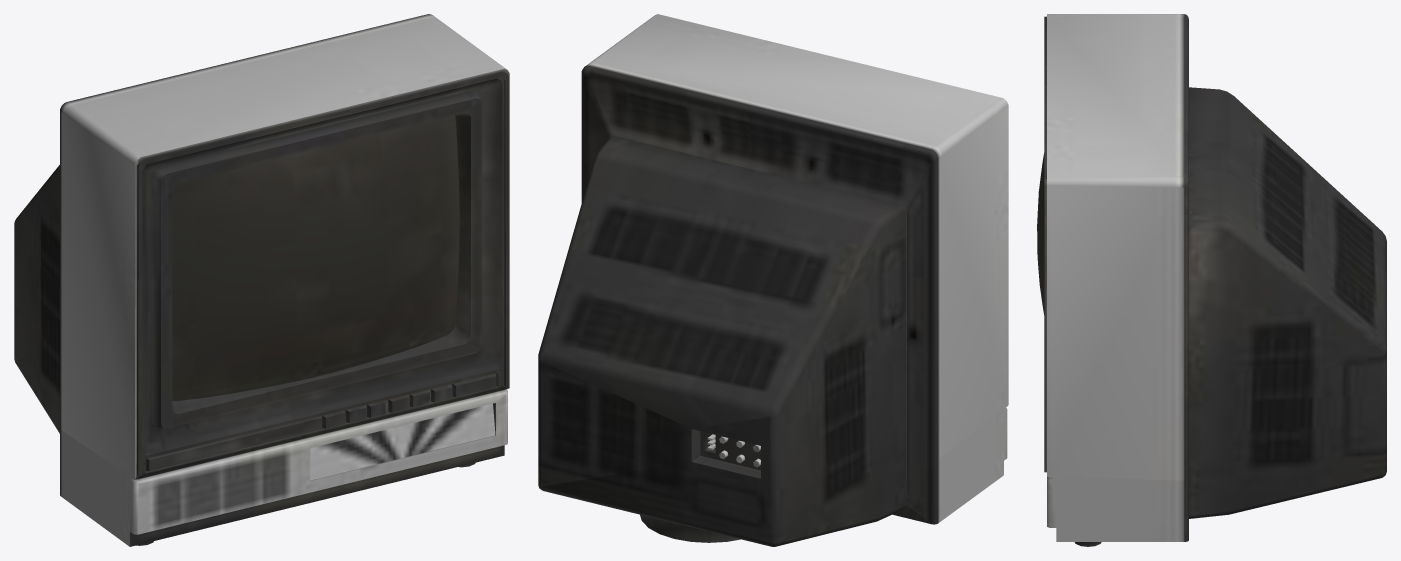
The model's file is television_02.glb.
3 views of the same model, side by side, from view 1: azimuth 30°, elevation 25°; view 2: azimuth 150°, elevation 25°; view 3: azimuth 270°, elevation 25° (orthographic). The views are drawn at different scales.
Visible parts, largest first — view 1: television_02; view 2: television_02; view 3: television_02.
Part boxes in pixels (bbox=[...]): television_02: bbox=[14, 14, 509, 546]; television_02: bbox=[538, 14, 1008, 546]; television_02: bbox=[1037, 14, 1386, 546].
Bounding box in the file's own units: 0.3998 × 0.4114 × 0.3502.
1 material, 1 textured.
